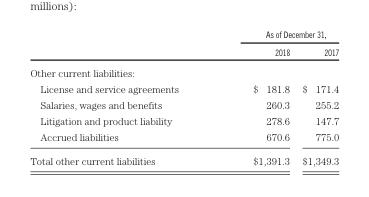table: (29, 28, 338, 165)
table column: (29, 28, 215, 165), (215, 28, 295, 165), (295, 28, 338, 165)
table column header: (29, 28, 338, 61)
table projected row header: (29, 61, 338, 80)
table row: (29, 128, 338, 148), (29, 42, 338, 61), (29, 61, 338, 80), (29, 148, 338, 165), (29, 80, 338, 96), (29, 96, 338, 112), (29, 112, 338, 128), (29, 28, 338, 42)
table spanning cell: (215, 28, 338, 42)
